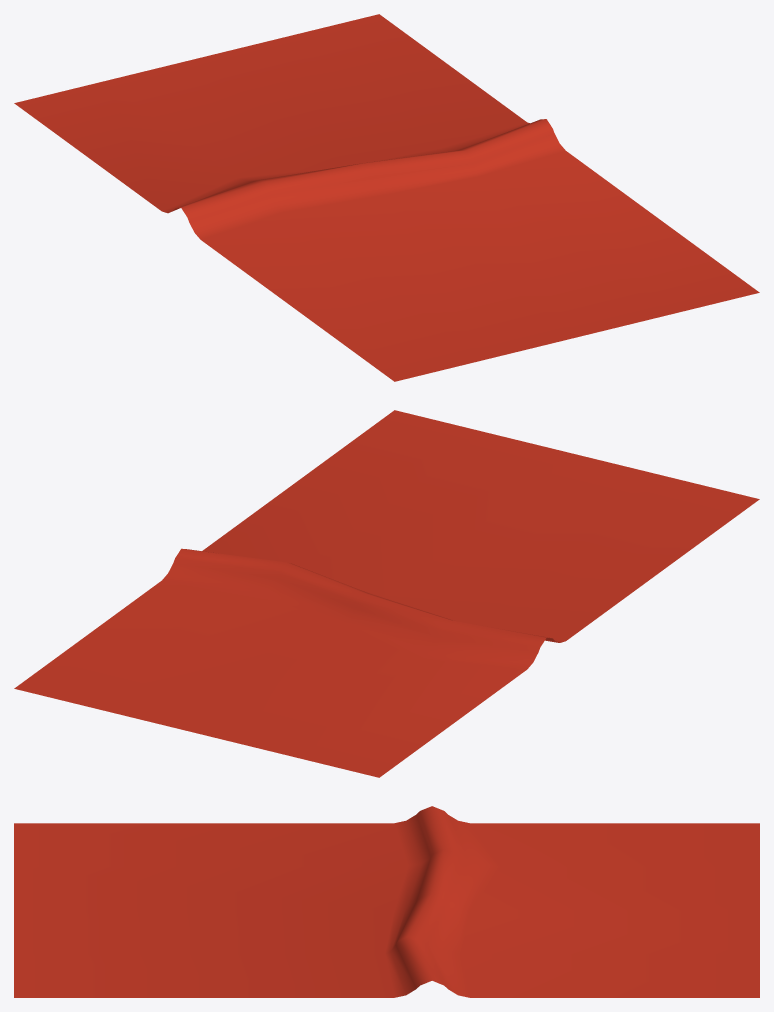
File: carpet_plane_lump_1.fbx
The picture shows the model from 3 angles, top to bottom: view 1: azimuth 30°, elevation 25°; view 2: azimuth 150°, elevation 25°; view 3: azimuth 270°, elevation 25°; orthographic projection. The views are drawn at different scales.
Parts seen in each view (by area): view 1: carpet_plane_lump_1; view 2: carpet_plane_lump_1; view 3: carpet_plane_lump_1.
Part boxes in pixels (x1=…): carpet_plane_lump_1: x1=14, y1=14, x2=759, y2=381; carpet_plane_lump_1: x1=14, y1=410, x2=759, y2=777; carpet_plane_lump_1: x1=14, y1=806, x2=759, y2=997.
Bounding box in the file's own units: 200 × 9.19 × 361.
